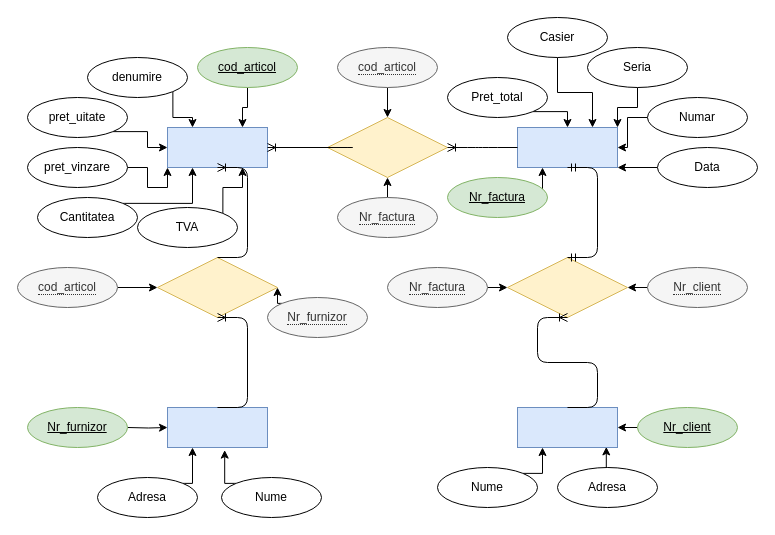
The diagram is 775 pixels wide and 535 high, and some of its shapes have lost their labels. The shapes that lost their labels are listed below. From the top down, each one's centre as x and y in pixels, then its label:
At (217,147): "Articol".
At (387,147): "Contine".
At (567,147): "Factura".
At (217,287): "Livreaza".
At (567,287): "Apartine".
At (217,427): "Furnizor".
At (567,427): "Client".
